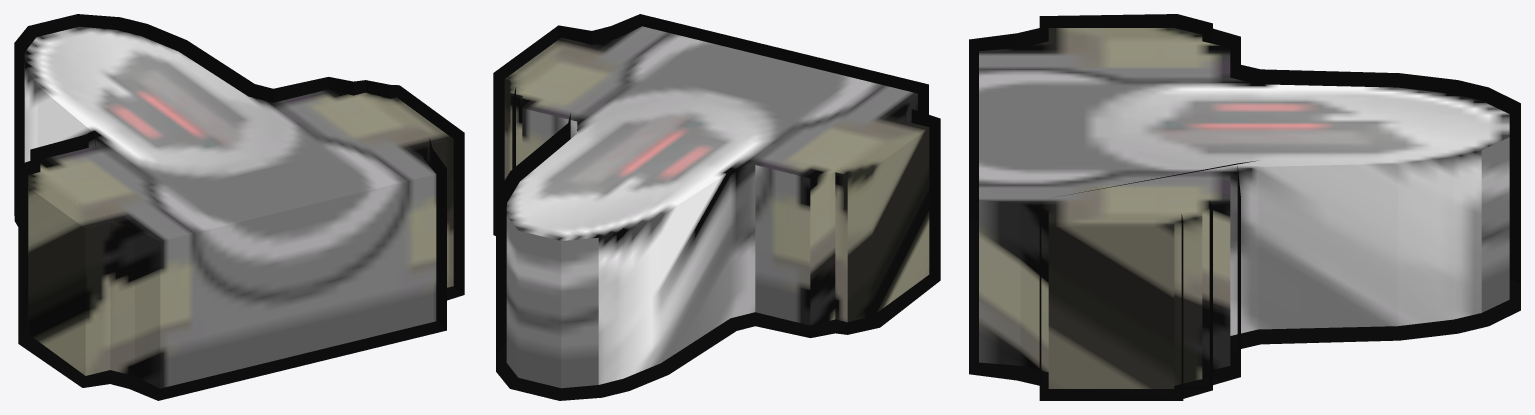
File: Building_ShardInhibitor_Things_Building_ShardInhibitor_ShardInhibitor.glb
3 renders of one model, left to right at view 1: azimuth 30°, elevation 25°; view 2: azimuth 150°, elevation 25°; view 3: azimuth 270°, elevation 25°, orthographic. The views are drawn at different scales.
Parts seen in each view (by area): view 1: Body, Outline; view 2: Body, Outline; view 3: Body, Outline.
Boxes of the visible parts, left/top/right/bottom form: Body: left=24, top=26, right=453, bottom=388; Outline: left=14, top=14, right=464, bottom=400; Body: left=504, top=26, right=929, bottom=388; Outline: left=493, top=14, right=940, bottom=400; Body: left=979, top=28, right=1509, bottom=388; Outline: left=969, top=14, right=1520, bottom=400.
Size of the model in its own units: 0.9784 by 0.4109 by 1.1.
2 materials, 1 textured.
